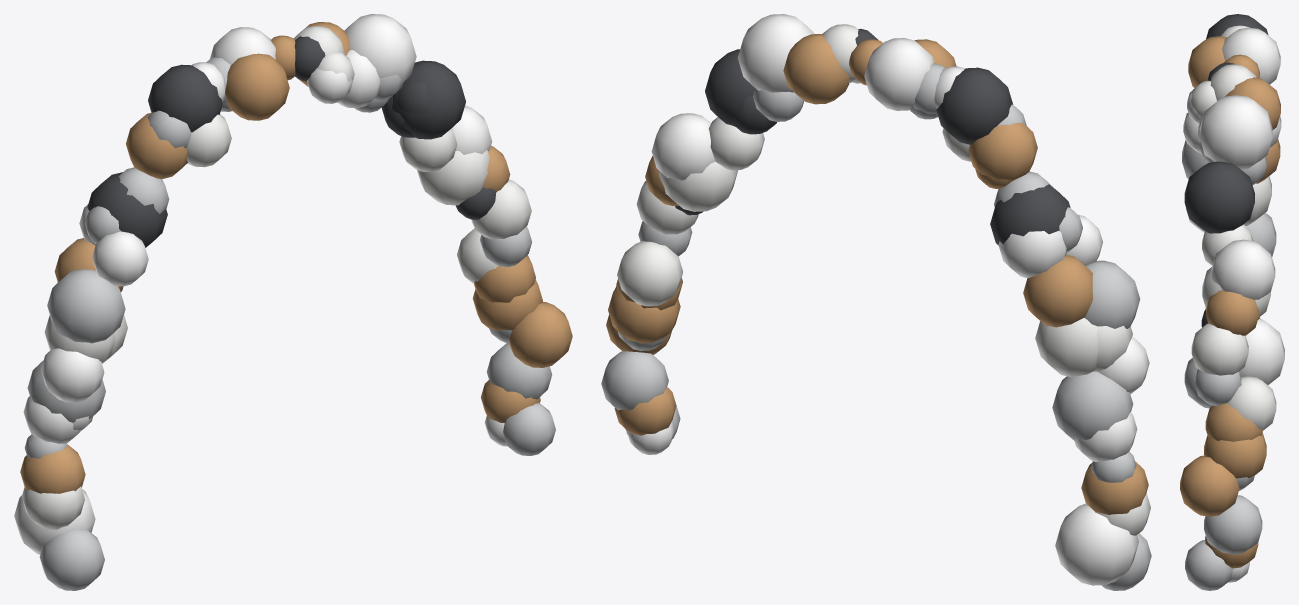
Rendered from balloon_arch_pastel.glb.
The picture shows the model from 3 angles, left to right: view 1: azimuth 30°, elevation 25°; view 2: azimuth 150°, elevation 25°; view 3: azimuth 270°, elevation 25°; orthographic projection. The views are drawn at different scales.
Visible parts, largest first — view 1: balloon_arch_pastel; view 2: balloon_arch_pastel; view 3: balloon_arch_pastel.
Boxes of the visible parts, <box> form: balloon_arch_pastel: <box>14,14,572,590</box>; balloon_arch_pastel: <box>601,14,1151,590</box>; balloon_arch_pastel: <box>1180,14,1284,590</box>.
Size of the model in its own units: 2.62 by 2.34 by 0.481.
